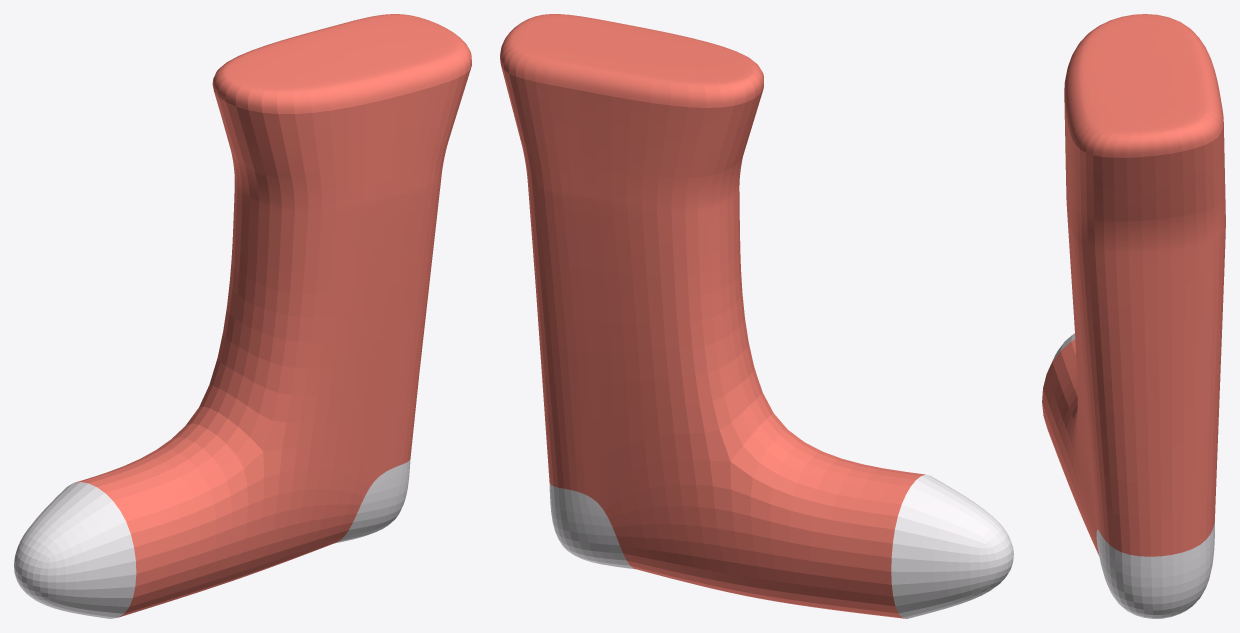
The model's file is calcetin.fbx.
The picture shows the model from 3 angles, left to right: view 1: azimuth 30°, elevation 25°; view 2: azimuth 150°, elevation 25°; view 3: azimuth 270°, elevation 25°; orthographic projection. The views are drawn at different scales.
Visible parts, largest first — view 1: Cube.002; view 2: Cube.002; view 3: Cube.002.
Part boxes in pixels (<box>): Cube.002: <box>14,14,471,618</box>; Cube.002: <box>500,14,1013,618</box>; Cube.002: <box>1042,14,1225,618</box>.
Size of the model in its own units: 438 by 450 by 141.
